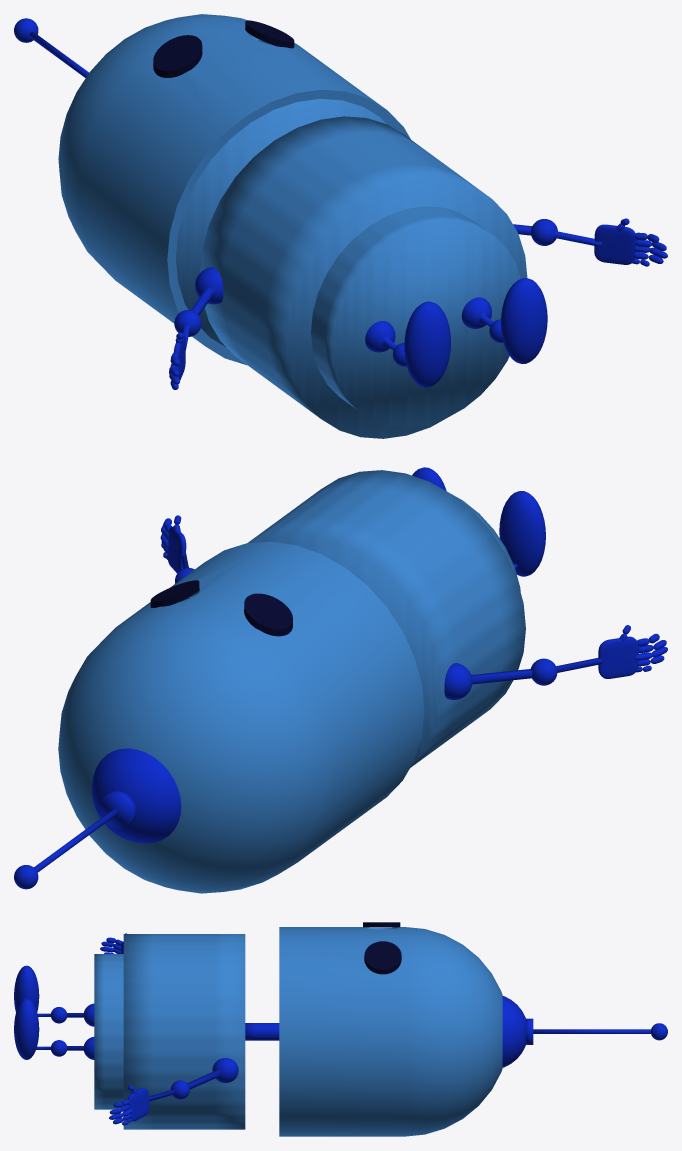
The model's file is robot1.fbx.
3 views of the same model, one above another, from view 1: azimuth 30°, elevation 25°; view 2: azimuth 150°, elevation 25°; view 3: azimuth 270°, elevation 25° (orthographic). The views are drawn at different scales.
Visible parts, largest first — view 1: Group001; view 2: Group001; view 3: Group001.
Boxes of the visible parts, x1,y1,x2,y2 form: Group001: (14,14,667,438); Group001: (14,467,667,893); Group001: (14,922,667,1136).
Size of the model in its own units: 21069 by 11230 by 33974.
